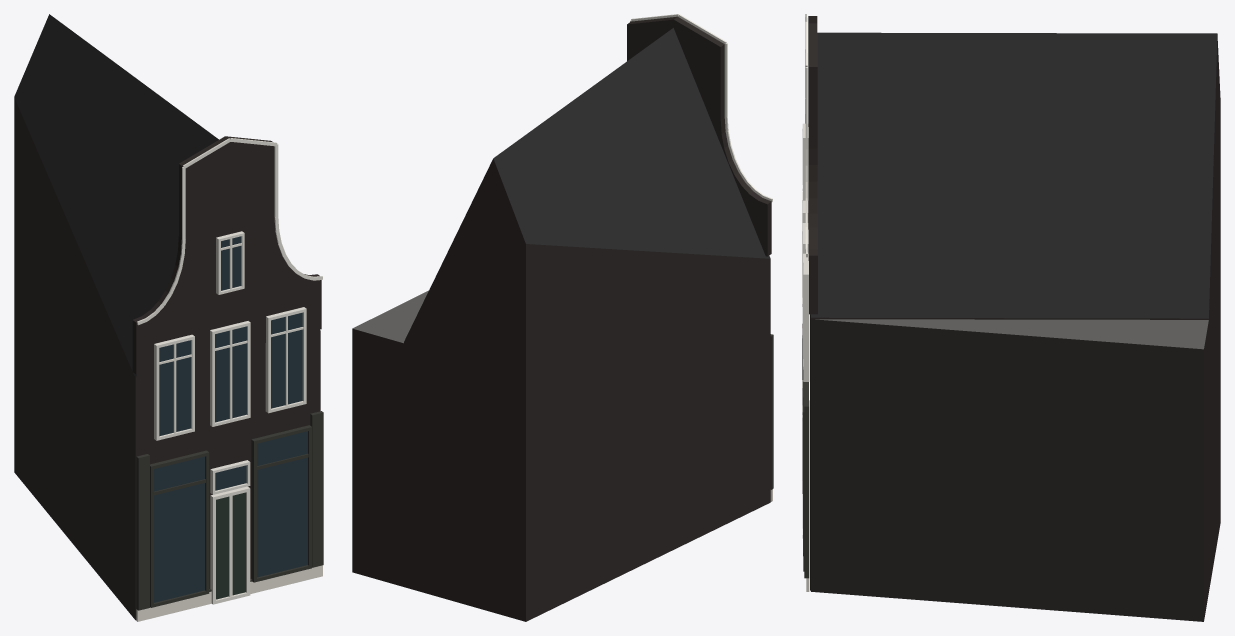
3 renders of one model, left to right at view 1: azimuth 30°, elevation 25°; view 2: azimuth 150°, elevation 25°; view 3: azimuth 270°, elevation 25°, orthographic. The views are drawn at different scales.
Parts seen in each view (by area): view 1: spec-0363100012182399; view 2: spec-0363100012182399; view 3: spec-0363100012182399.
Boxes of the visible parts, x1=… form: spec-0363100012182399: x1=14, y1=14, x2=323, y2=621; spec-0363100012182399: x1=352, y1=14, x2=773, y2=621; spec-0363100012182399: x1=802, y1=14, x2=1220, y2=621.
Size of the model in its own units: 6.33 by 11.59 by 8.46.
